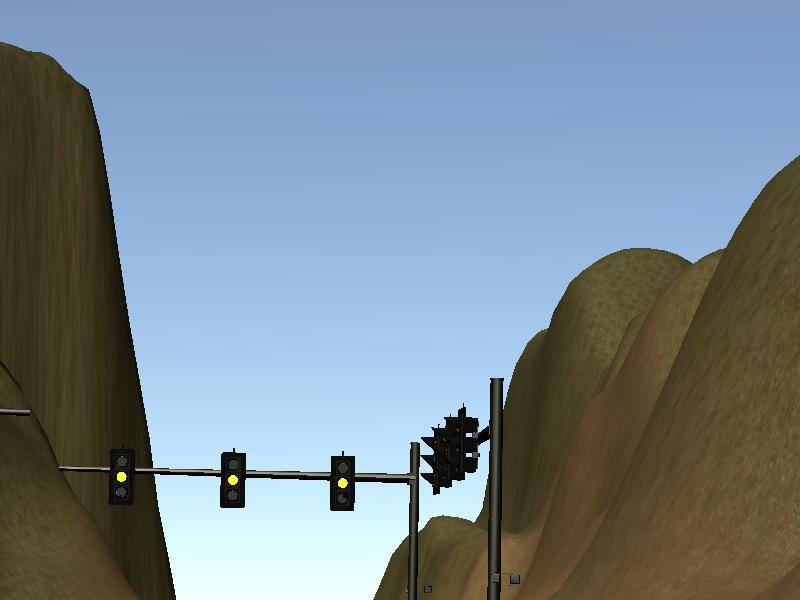yellow: (324, 446, 360, 515), (104, 440, 141, 507), (214, 445, 250, 511)
